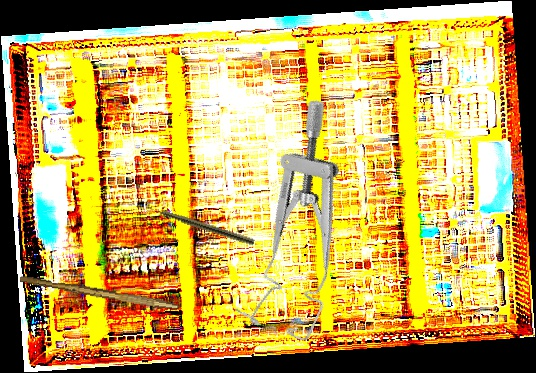Handpiece: (141, 202, 256, 246)
Scalpel Handle: (19, 274, 180, 311)
Speculum: (212, 94, 402, 350)
